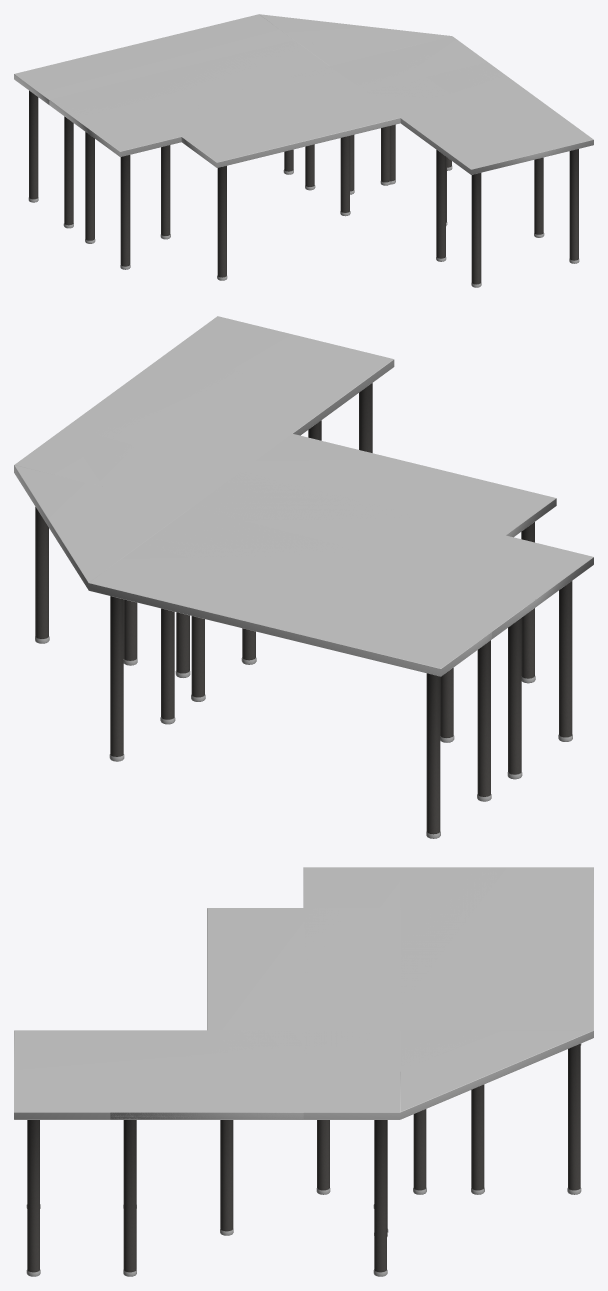
The model's file is buerotische.fbx.
The picture shows the model from 3 angles, top to bottom: view 1: azimuth 30°, elevation 25°; view 2: azimuth 150°, elevation 25°; view 3: azimuth 270°, elevation 25°; orthographic projection. The views are drawn at different scales.
Parts seen in each view (by area): view 1: Mesh, Mesh_ncl1_2, Mesh_ncl1_1; view 2: Mesh, Mesh_ncl1_2, Mesh_ncl1_1; view 3: Mesh, Mesh_ncl1_1, Mesh_ncl1_2.
Boxes of the visible parts, box(x1,y1,x2,y2) form: Mesh: box(14, 14, 593, 287); Mesh_ncl1_2: box(49, 40, 557, 269); Mesh_ncl1_1: box(153, 51, 460, 280); Mesh: box(14, 316, 541, 838); Mesh_ncl1_2: box(65, 353, 593, 801); Mesh_ncl1_1: box(123, 413, 556, 742); Mesh: box(14, 867, 593, 1276); Mesh_ncl1_1: box(207, 908, 400, 1235); Mesh_ncl1_2: box(110, 867, 496, 1276).
Bounding box in the file's own units: 225 × 73 × 225.
